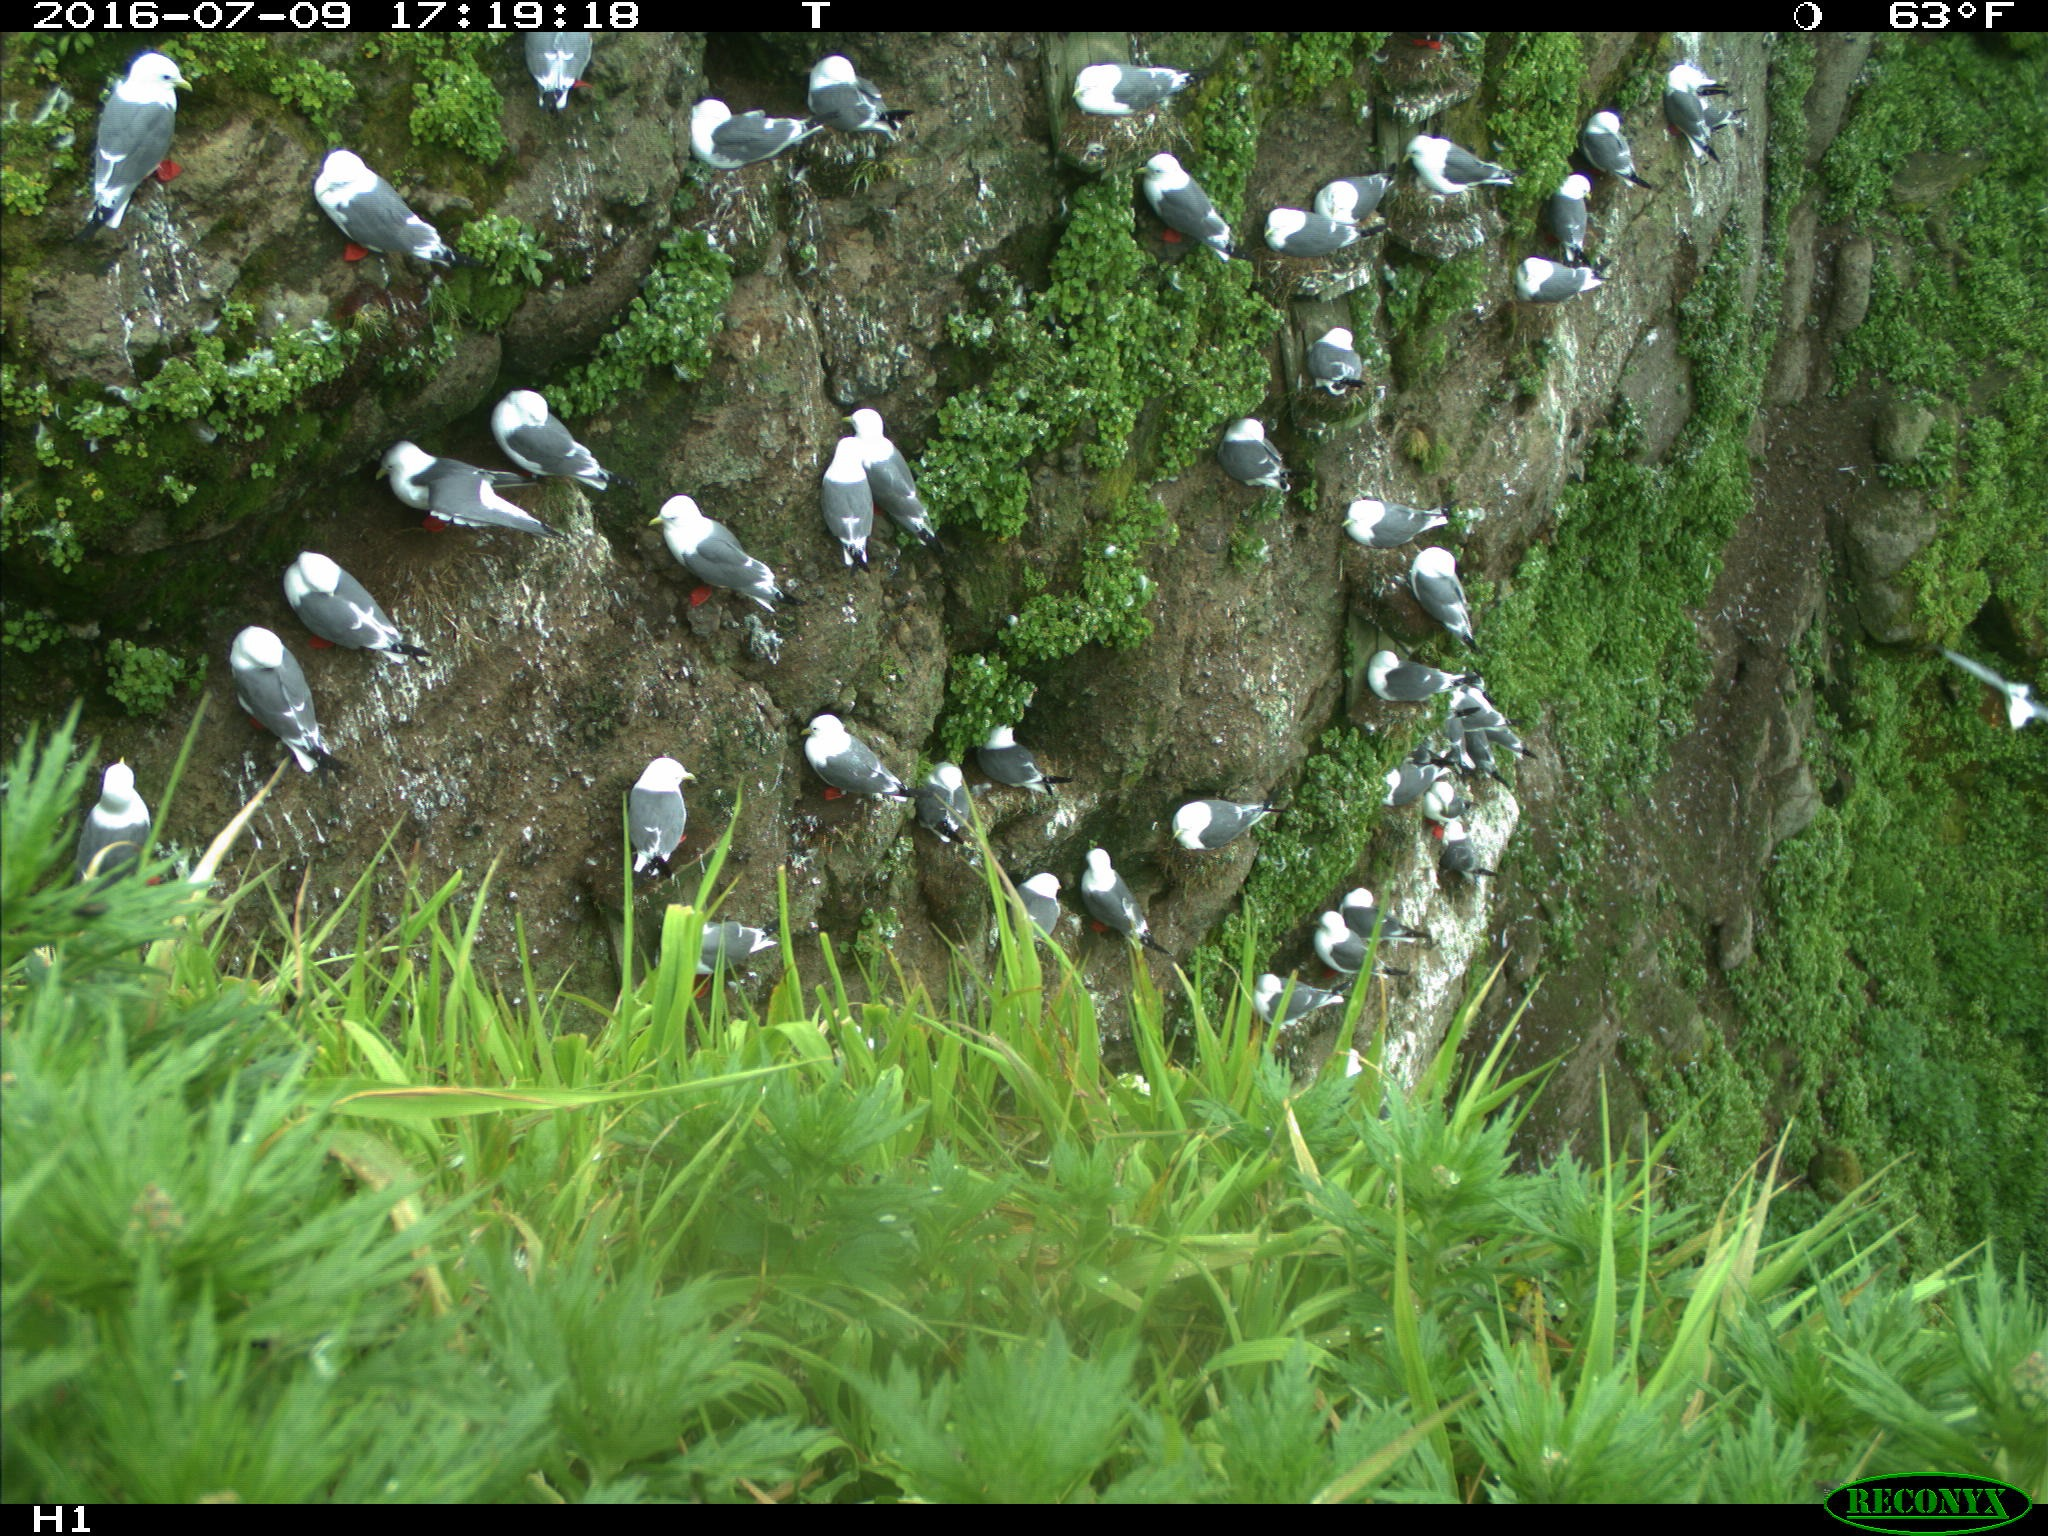Kittiwake: (661, 465, 806, 658), (60, 48, 198, 248), (277, 529, 437, 694), (213, 600, 356, 776), (300, 131, 447, 295), (52, 736, 176, 891), (481, 374, 626, 507), (364, 424, 464, 605), (672, 90, 845, 194), (1384, 108, 1513, 237), (784, 699, 898, 841), (1058, 45, 1214, 148), (613, 755, 756, 866), (839, 394, 935, 552), (905, 733, 1008, 868), (1229, 954, 1334, 1076), (1650, 53, 1746, 186), (1295, 487, 1450, 570), (958, 705, 1076, 812), (1572, 74, 1692, 177), (1317, 862, 1434, 966), (795, 50, 914, 152), (1143, 787, 1300, 865), (1250, 195, 1397, 278), (495, 27, 613, 127), (1132, 148, 1235, 261), (1292, 303, 1385, 423), (1206, 400, 1305, 507), (801, 419, 884, 545), (1376, 545, 1467, 655), (1534, 140, 1613, 266), (1492, 245, 1625, 316), (1555, 119, 1643, 219), (1300, 899, 1379, 1008), (985, 871, 1074, 955), (1343, 629, 1443, 703), (1069, 858, 1124, 992), (671, 913, 774, 984), (1405, 763, 1476, 863), (1301, 145, 1395, 202)
